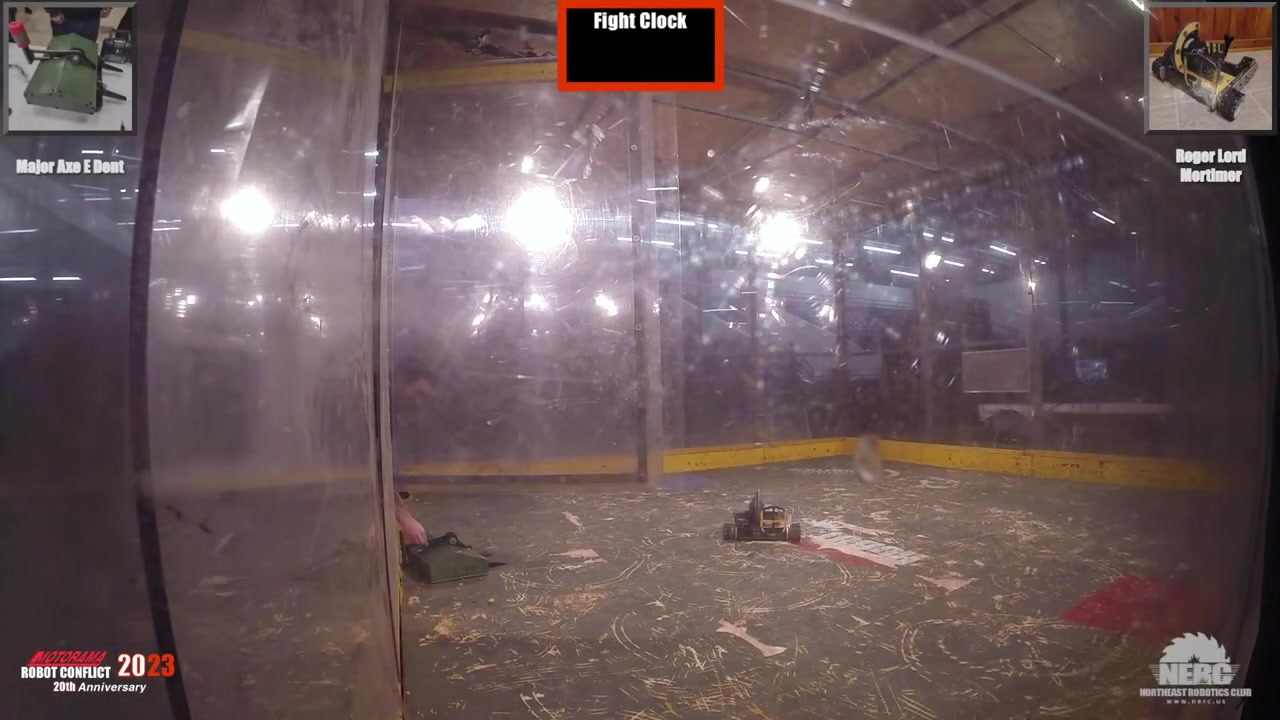combatbot: (403, 534, 489, 584), (722, 508, 804, 543)
